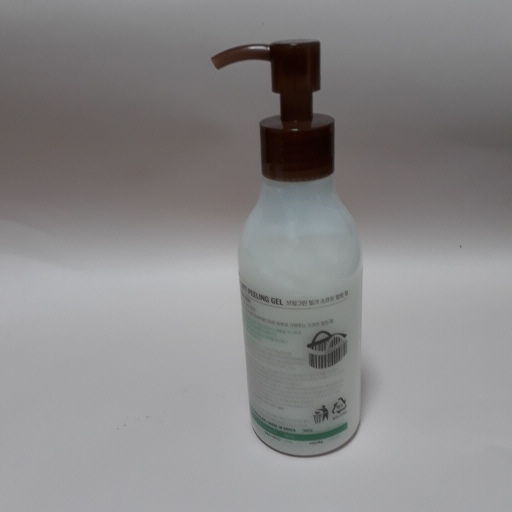Plastic_3: (212, 37, 368, 454)
